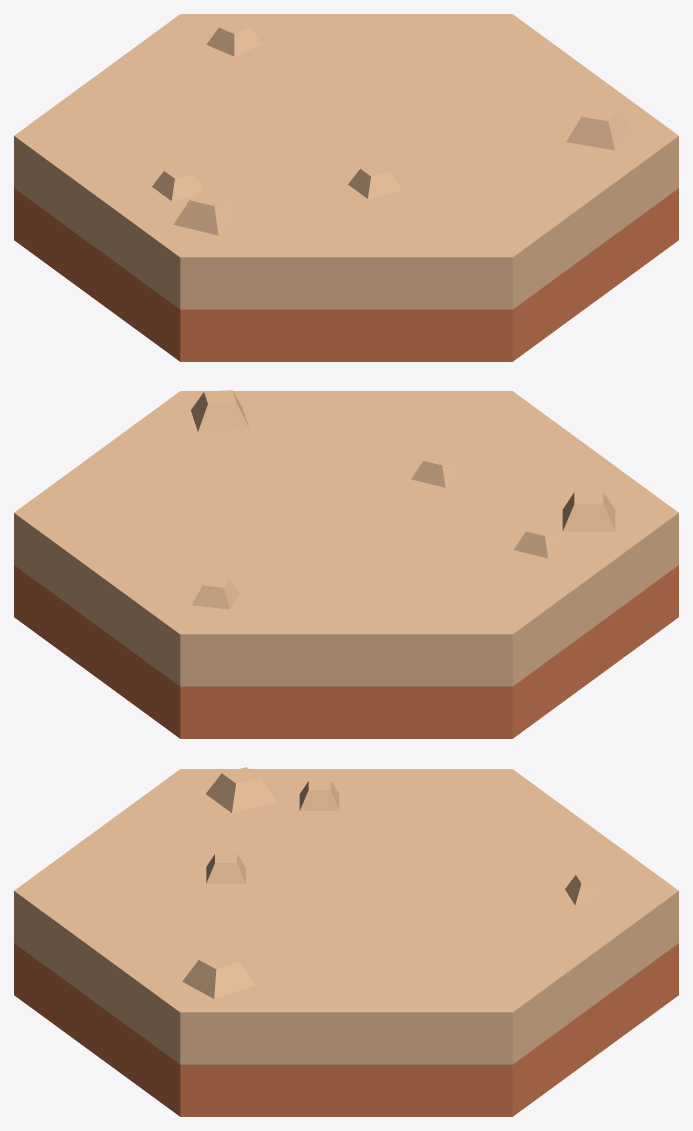
The model's file is Sand Rocks.glb.
The picture shows the model from 3 angles, top to bottom: view 1: azimuth 30°, elevation 25°; view 2: azimuth 150°, elevation 25°; view 3: azimuth 270°, elevation 25°; orthographic projection.
Visible parts, largest first — view 1: sand_rocks, rock.001, rock.004, rock.003, rock, rock.002; view 2: sand_rocks, rock.001, rock.004, rock, rock.002, rock.003; view 3: sand_rocks, rock.004, rock.001, rock.002, rock.003, rock.
Boxes of the visible parts, left/top/right/bottom form: sand_rocks: left=14, top=14, right=678, bottom=361; rock.001: left=174, top=189, right=244, bottom=235; rock.004: left=566, top=105, right=633, bottom=150; rock.003: left=206, top=21, right=262, bottom=56; rock: left=348, top=164, right=402, bottom=198; rock.002: left=152, top=166, right=203, bottom=200; sand_rocks: left=14, top=391, right=678, bottom=738; rock.001: left=562, top=492, right=615, bottom=531; rock.004: left=191, top=390, right=249, bottom=432; rock: left=411, top=453, right=465, bottom=487; rock.002: left=514, top=523, right=567, bottom=558; rock.003: left=192, top=576, right=240, bottom=609; sand_rocks: left=14, top=769, right=678, bottom=1116; rock.004: left=182, top=952, right=255, bottom=998; rock.001: left=206, top=767, right=276, bottom=812; rock.002: left=299, top=780, right=339, bottom=810; rock.003: left=565, top=872, right=612, bottom=905; rock: left=206, top=853, right=245, bottom=883.
Bounding box in the file's own units: 1 × 0.2435 × 1.15.
